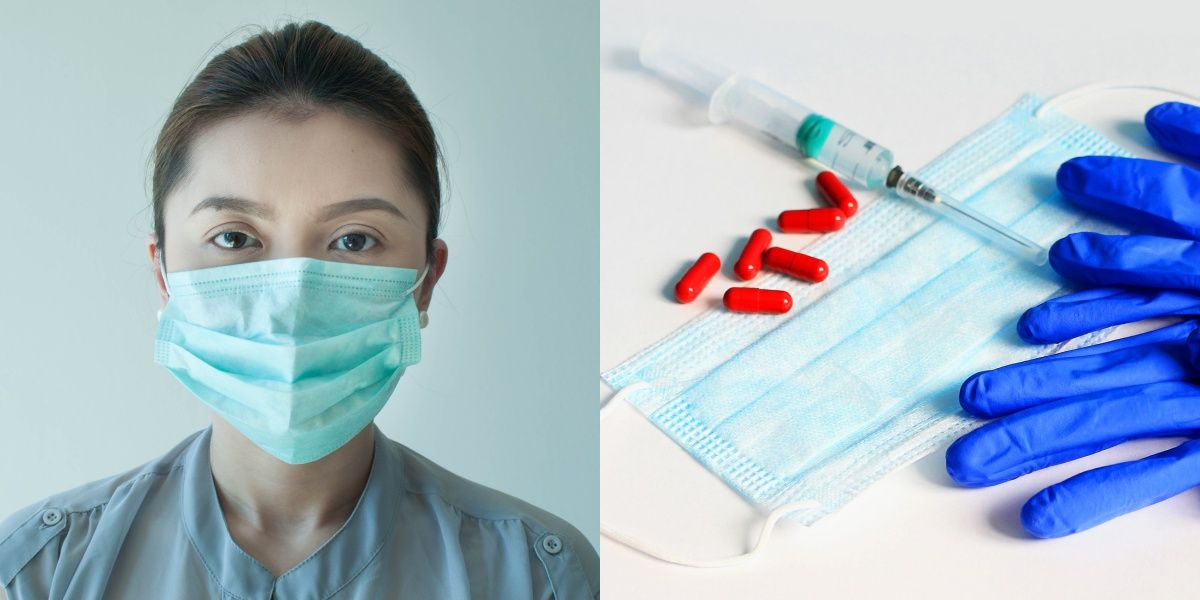Mask: (161, 104, 408, 463)
